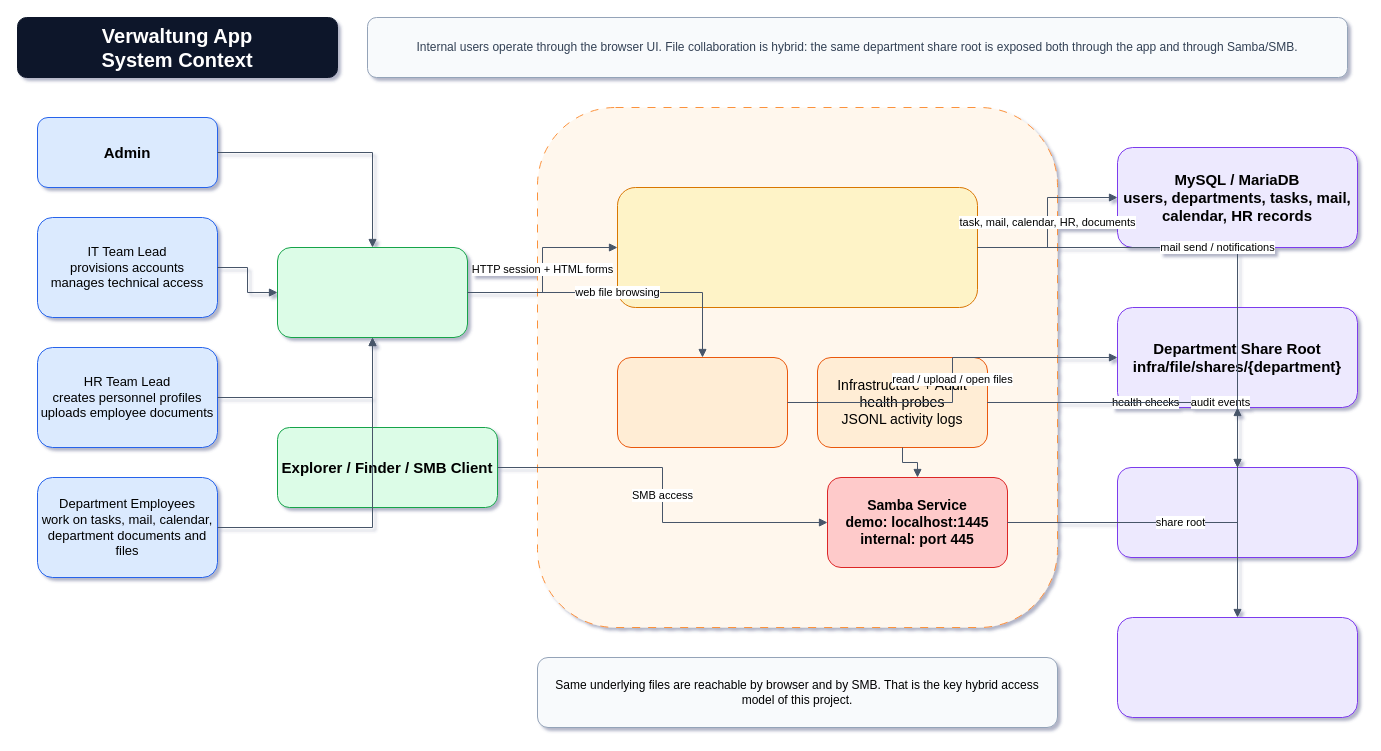
Some shapes in this 1381 by 751 pixel diagram are drawn without their labels. Here are the shapes that lost their labels. From the top down, the box of each, then its label:
(616, 186, 978, 308): Verwaltung App public/index.php routes/web.php controllers + services + views
(276, 246, 468, 338): Browser UI server-rendered PHP views
(536, 106, 1058, 628): Application Boundary
(616, 356, 788, 448): Web File Browser /services/fileserver /departments/{slug}
(1116, 466, 1358, 558): SMTP / MailHog / Internal Mail Relay
(1116, 616, 1358, 718): storage/logs/*.log personnel, admin, task, mail, calendar
